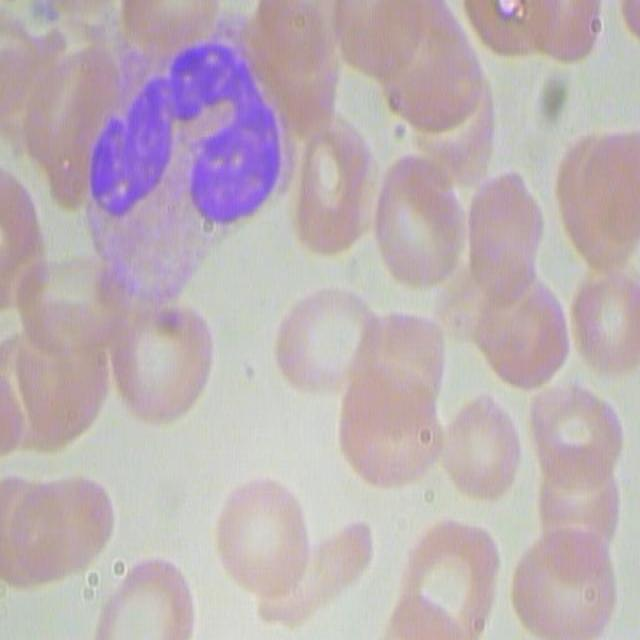RBC: (372, 4, 493, 181), (338, 316, 446, 495), (365, 133, 467, 296), (211, 477, 317, 623), (102, 290, 214, 427), (2, 462, 113, 593), (7, 315, 110, 449), (287, 113, 384, 252), (29, 38, 106, 212), (529, 376, 623, 514), (392, 516, 497, 636), (510, 525, 619, 640), (271, 282, 376, 397), (557, 130, 640, 270), (476, 276, 567, 394), (247, 2, 340, 114), (464, 0, 613, 69), (458, 169, 540, 287), (436, 387, 522, 499), (92, 556, 195, 640), (567, 273, 640, 379), (0, 160, 42, 311)
WBC: (97, 53, 273, 274)
